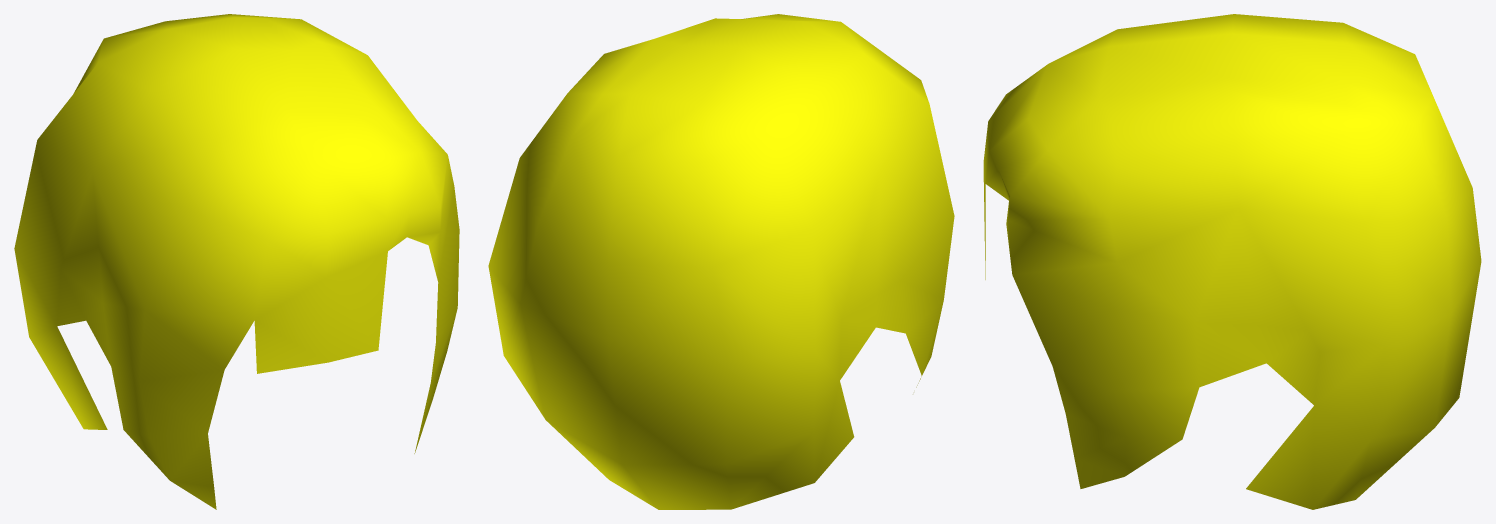
The model's file is hair_F16.glb.
3 views of the same model, side by side, from view 1: azimuth 30°, elevation 25°; view 2: azimuth 150°, elevation 25°; view 3: azimuth 270°, elevation 25° (orthographic). The views are drawn at different scales.
Visible parts, largest first — view 1: newricoobj; view 2: newricoobj; view 3: newricoobj.
Part boxes in pixels (box(x1,y1,x2,y2)): newricoobj: box(14, 14, 459, 509); newricoobj: box(488, 14, 954, 509); newricoobj: box(983, 14, 1481, 509).
Size of the model in its own units: 0.5422 by 0.6494 by 0.6708.
1 material, 1 textured.
